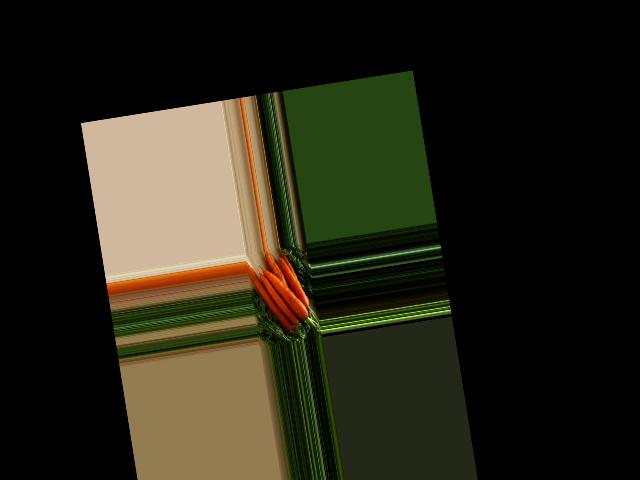carrot: (245, 257, 295, 340)
